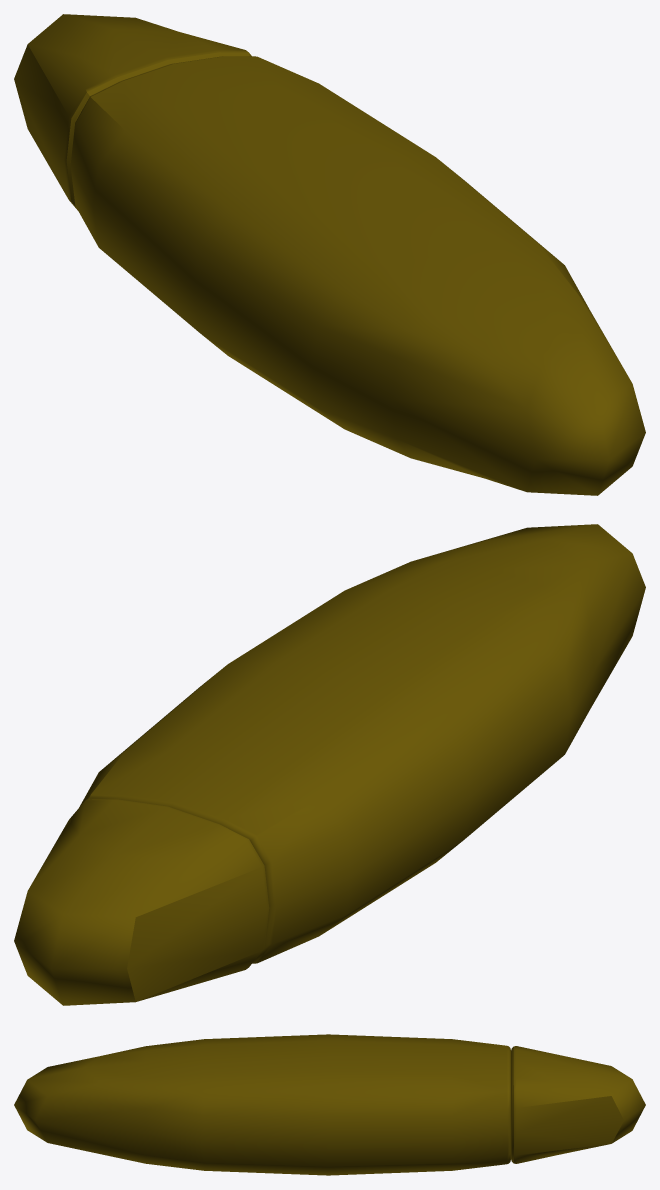
The model's file is A_Bread_Export.fbx.
3 views of the same model, one above another, from view 1: azimuth 30°, elevation 25°; view 2: azimuth 150°, elevation 25°; view 3: azimuth 270°, elevation 25° (orthographic). The views are drawn at different scales.
Parts seen in each view (by area): view 1: Bread, Bread_PieceBreak; view 2: Bread, Bread_PieceBreak; view 3: Bread, Bread_PieceBreak.
Boxes of the visible parts, x1,y1,x2,y2 form: Bread: [70, 56, 645, 495]; Bread_PieceBreak: [14, 14, 251, 210]; Bread: [79, 524, 645, 963]; Bread_PieceBreak: [14, 799, 269, 1005]; Bread: [14, 1034, 510, 1175]; Bread_PieceBreak: [511, 1046, 645, 1163].
Size of the model in its own units: 6.47 by 3.97 by 22.6.
